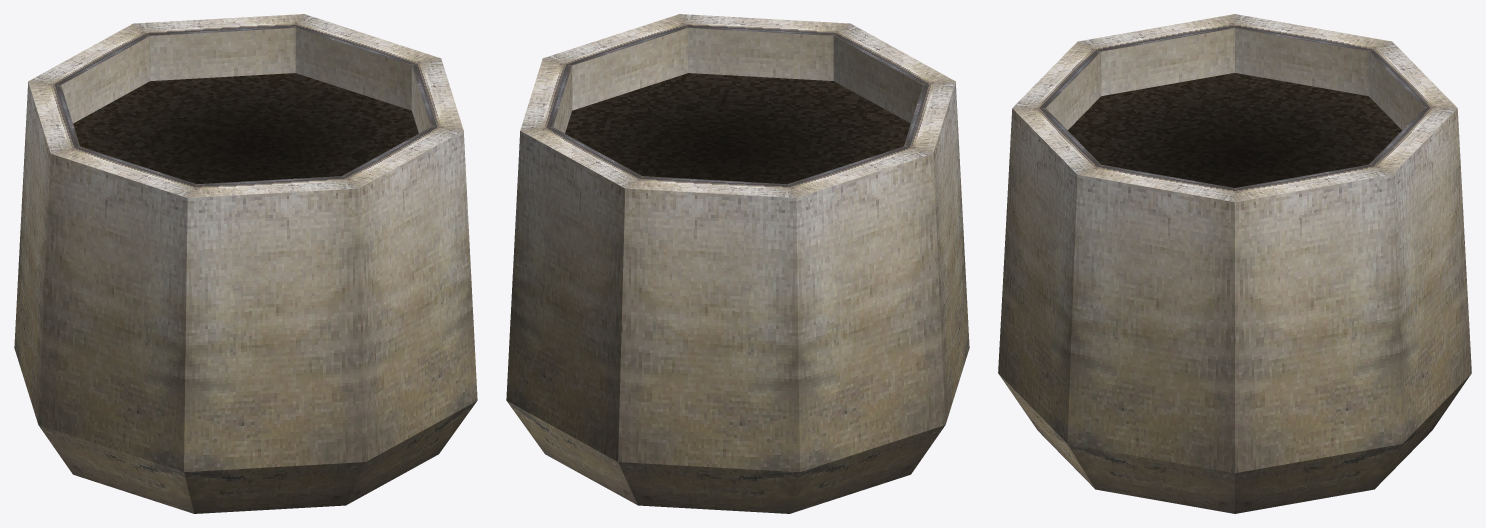
Rendered from pot3.glb.
3 views of the same model, side by side, from view 1: azimuth 30°, elevation 25°; view 2: azimuth 150°, elevation 25°; view 3: azimuth 270°, elevation 25° (orthographic).
Visible parts, largest first — view 1: pot3; view 2: pot3; view 3: pot3.
Boxes of the visible parts, <box> form: pot3: <box>14,14,477,513</box>; pot3: <box>506,14,969,513</box>; pot3: <box>998,14,1471,513</box>.
Bounding box in the file's own units: 0.3559 × 0.2673 × 0.3559.
1 material, 1 textured.
